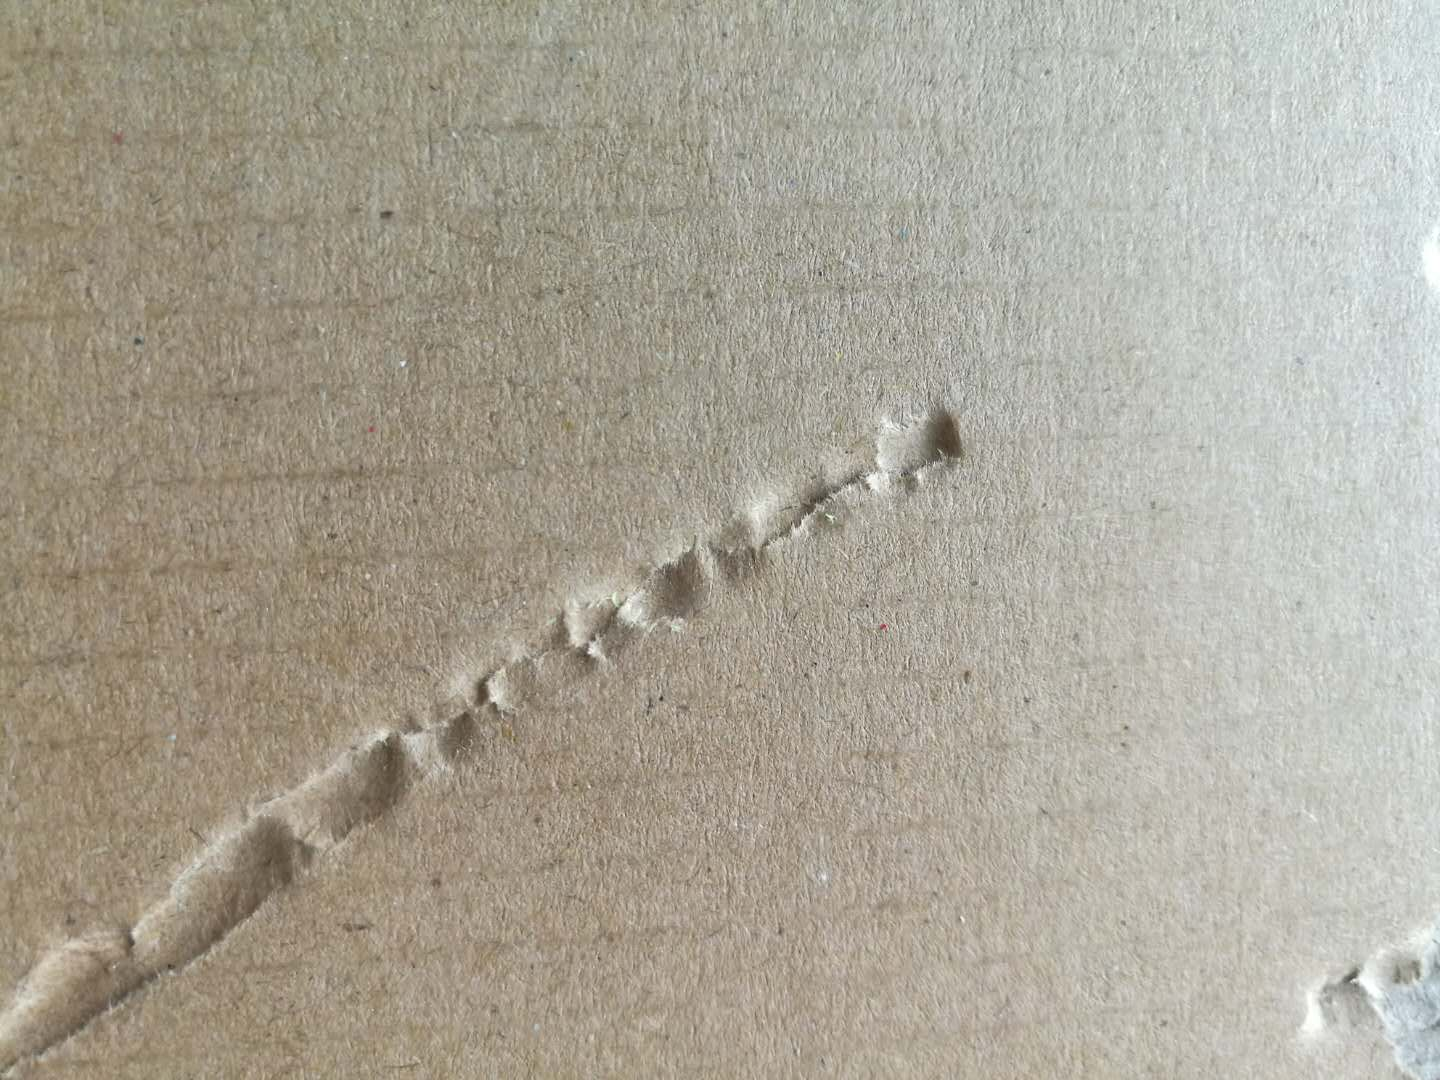defect: (1, 346, 1022, 1080), (1279, 901, 1440, 1080)
